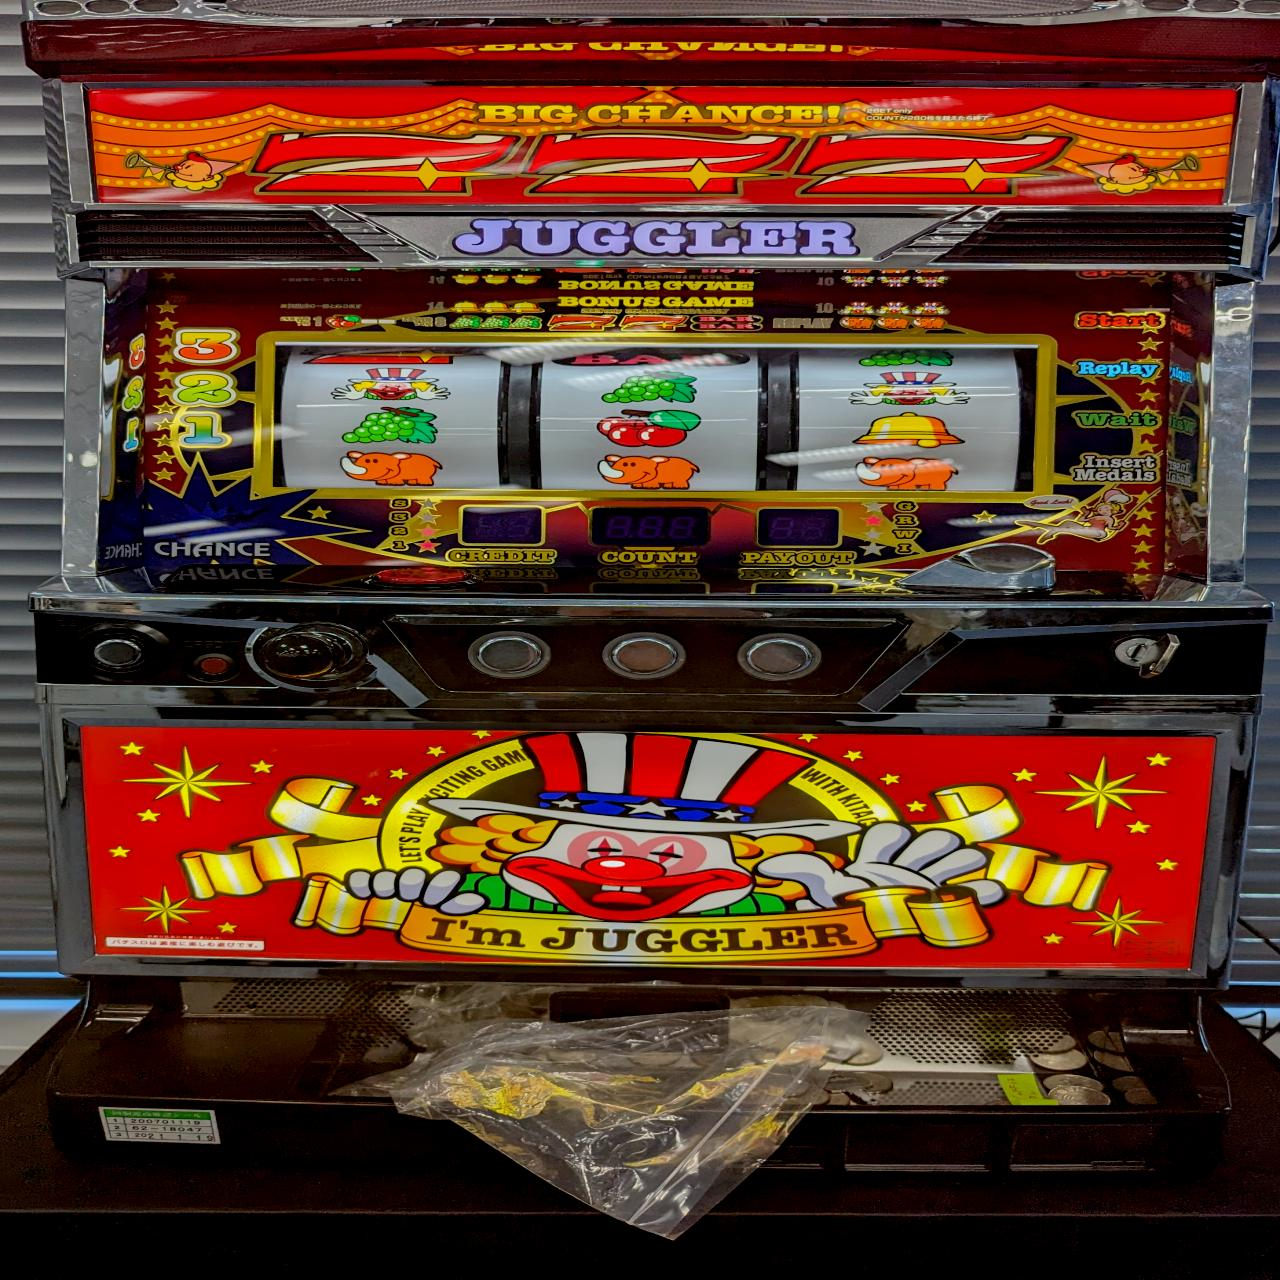8: (338, 450, 444, 485), (594, 454, 700, 489), (855, 458, 961, 490)
Display: (261, 334, 1041, 498)
bell: (855, 410, 965, 449)
cherry: (595, 410, 701, 448)
clown: (845, 369, 972, 407), (328, 368, 455, 403)
grape: (343, 406, 442, 444), (598, 370, 700, 404)
